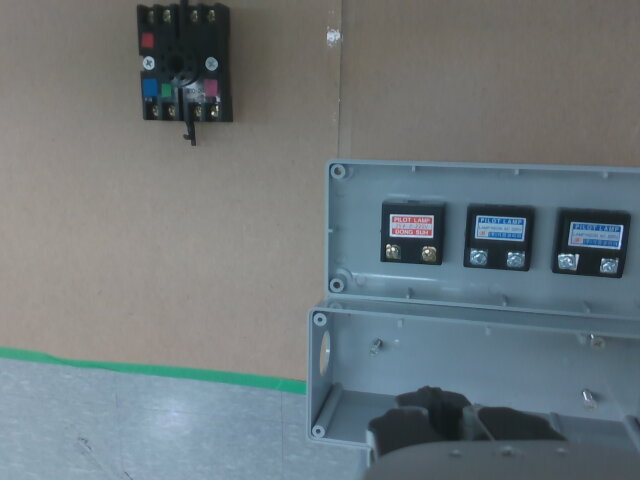L1(1): (385, 244, 401, 260)
L1(2): (421, 246, 436, 261)
L2(1): (470, 247, 487, 265)
L2(2): (507, 250, 524, 269)
L3(1): (559, 252, 577, 269)
L3(2): (600, 258, 618, 273)
